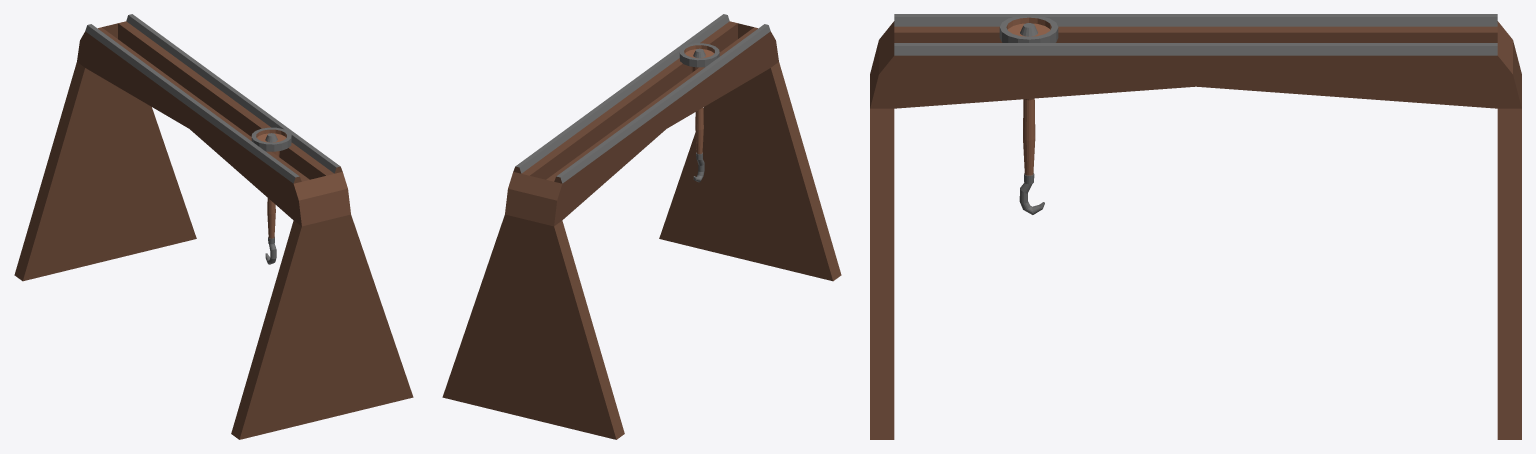
File: Seperator_Seperated.fbx
3 renders of one model, left to right at view 1: azimuth 30°, elevation 25°; view 2: azimuth 150°, elevation 25°; view 3: azimuth 270°, elevation 25°, orthographic. The views are drawn at different scales.
Visible parts, largest first — view 1: Cube.016, Cylinder.005; view 2: Cube.016, Cylinder.005; view 3: Cube.016, Cylinder.005.
Boxes of the visible parts, left/top/right/bottom form: Cube.016: left=14, top=14, right=413, bottom=439; Cylinder.005: left=251, top=127, right=291, bottom=264; Cube.016: left=442, top=14, right=841, bottom=439; Cylinder.005: left=679, top=43, right=719, bottom=182; Cube.016: left=870, top=14, right=1521, bottom=439; Cylinder.005: left=999, top=15, right=1058, bottom=214.
Bounding box in the file's own units: 131 × 175 × 293.
